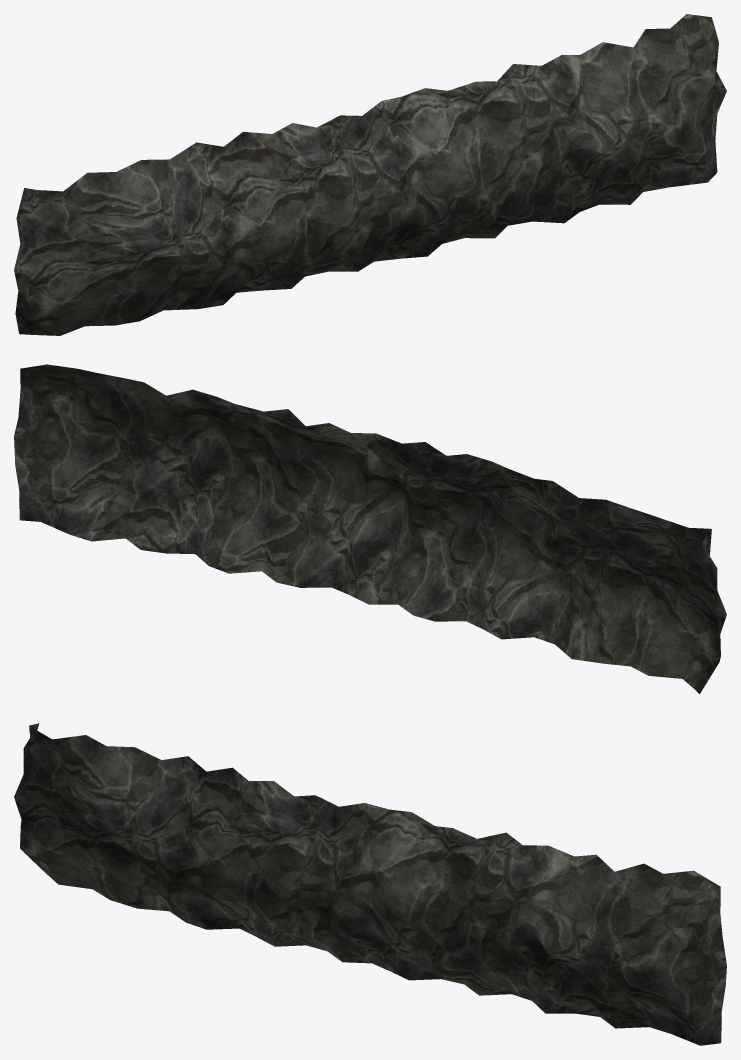
File: Wall20x4.fbx
The picture shows the model from 3 angles, top to bottom: view 1: azimuth 30°, elevation 25°; view 2: azimuth 150°, elevation 25°; view 3: azimuth 330°, elevation 25°; orthographic projection.
Visible parts, largest first — view 1: Wall20x4; view 2: Wall20x4; view 3: Wall20x4.
Boxes of the visible parts, <box> form: Wall20x4: <box>14,14,726,335</box>; Wall20x4: <box>14,364,726,694</box>; Wall20x4: <box>14,723,726,1045</box>.
Size of the model in its own units: 20.98 by 4.74 by 2.44.
